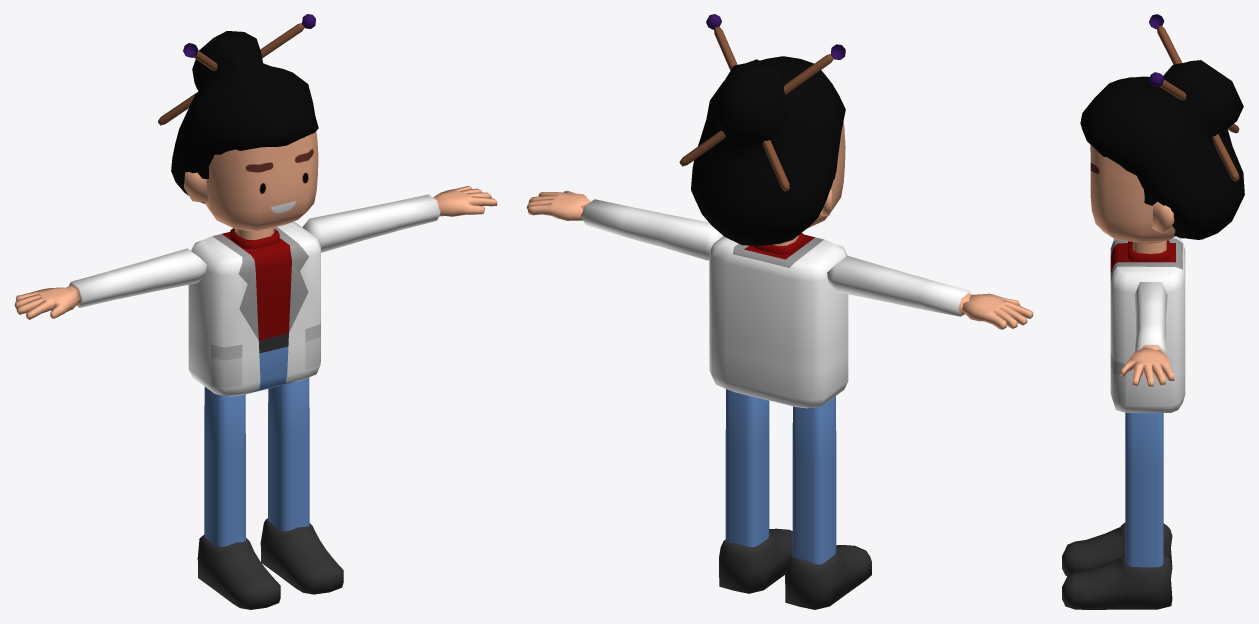
Rendered from NPC_White01_BlackHair04.gltf.
The picture shows the model from 3 angles, left to right: view 1: azimuth 30°, elevation 25°; view 2: azimuth 150°, elevation 25°; view 3: azimuth 270°, elevation 25°; orthographic projection. The views are drawn at different scales.
Visible parts, largest first — view 1: NPC_Corpo_White1_BlackHair.004; view 2: NPC_Corpo_White1_BlackHair.004; view 3: NPC_Corpo_White1_BlackHair.004.
Part boxes in pixels (x1,y1,x2,y2): NPC_Corpo_White1_BlackHair.004: (14,14,497,609); NPC_Corpo_White1_BlackHair.004: (526,14,1033,609); NPC_Corpo_White1_BlackHair.004: (1062,14,1244,609).
Size of the model in its own units: 2.31 by 2.5 by 0.7676.
Materials: 1 (1 with a texture image).
